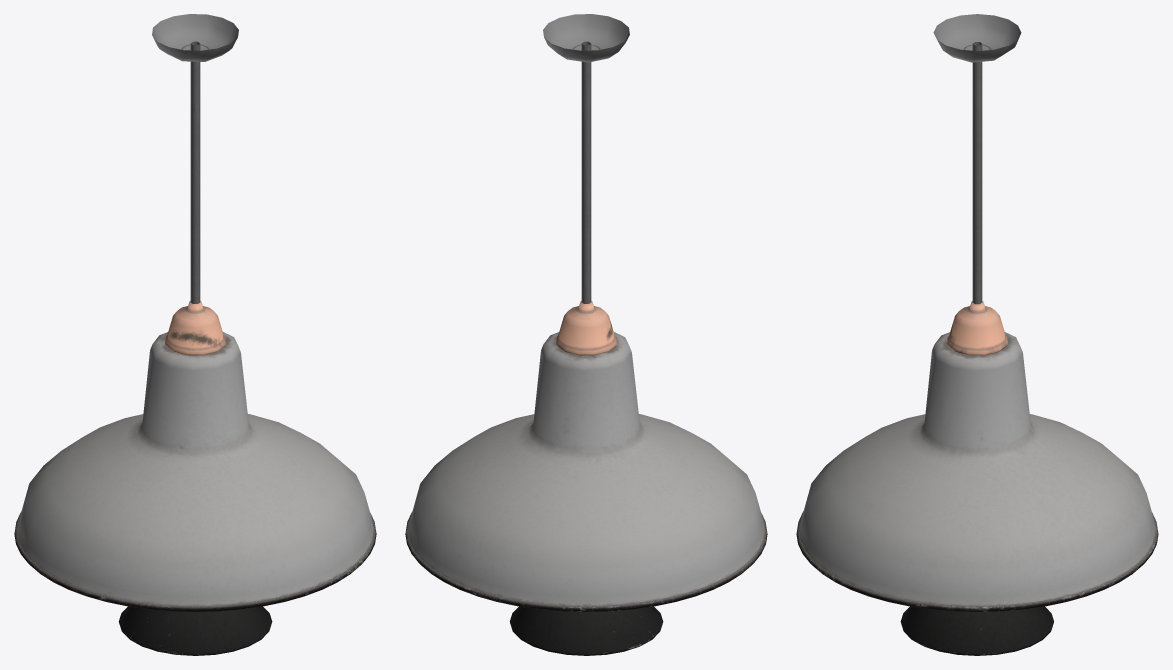
The model's file is Lamps.fbx.
The picture shows the model from 3 angles, left to right: view 1: azimuth 30°, elevation 25°; view 2: azimuth 150°, elevation 25°; view 3: azimuth 270°, elevation 25°; orthographic projection.
Parts seen in each view (by area): view 1: Lamp_Kitchen_A, Lamp_Kitchen_B; view 2: Lamp_Kitchen_A, Lamp_Kitchen_B; view 3: Lamp_Kitchen_A, Lamp_Kitchen_B.
Part boxes in pixels (bbox=[...]): Lamp_Kitchen_A: bbox=[14, 35, 376, 611]; Lamp_Kitchen_B: bbox=[118, 14, 272, 655]; Lamp_Kitchen_A: bbox=[405, 35, 767, 611]; Lamp_Kitchen_B: bbox=[509, 14, 663, 655]; Lamp_Kitchen_A: bbox=[796, 34, 1158, 611]; Lamp_Kitchen_B: bbox=[900, 14, 1053, 655].
Size of the model in its own units: 0.4933 by 0.8893 by 0.4933.
